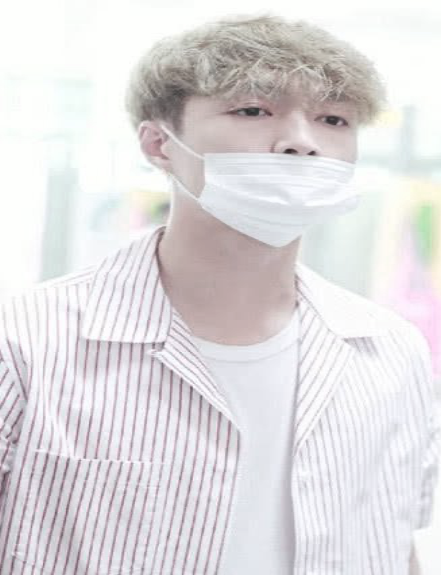mask_weared_incorrect: (177, 97, 365, 251)
